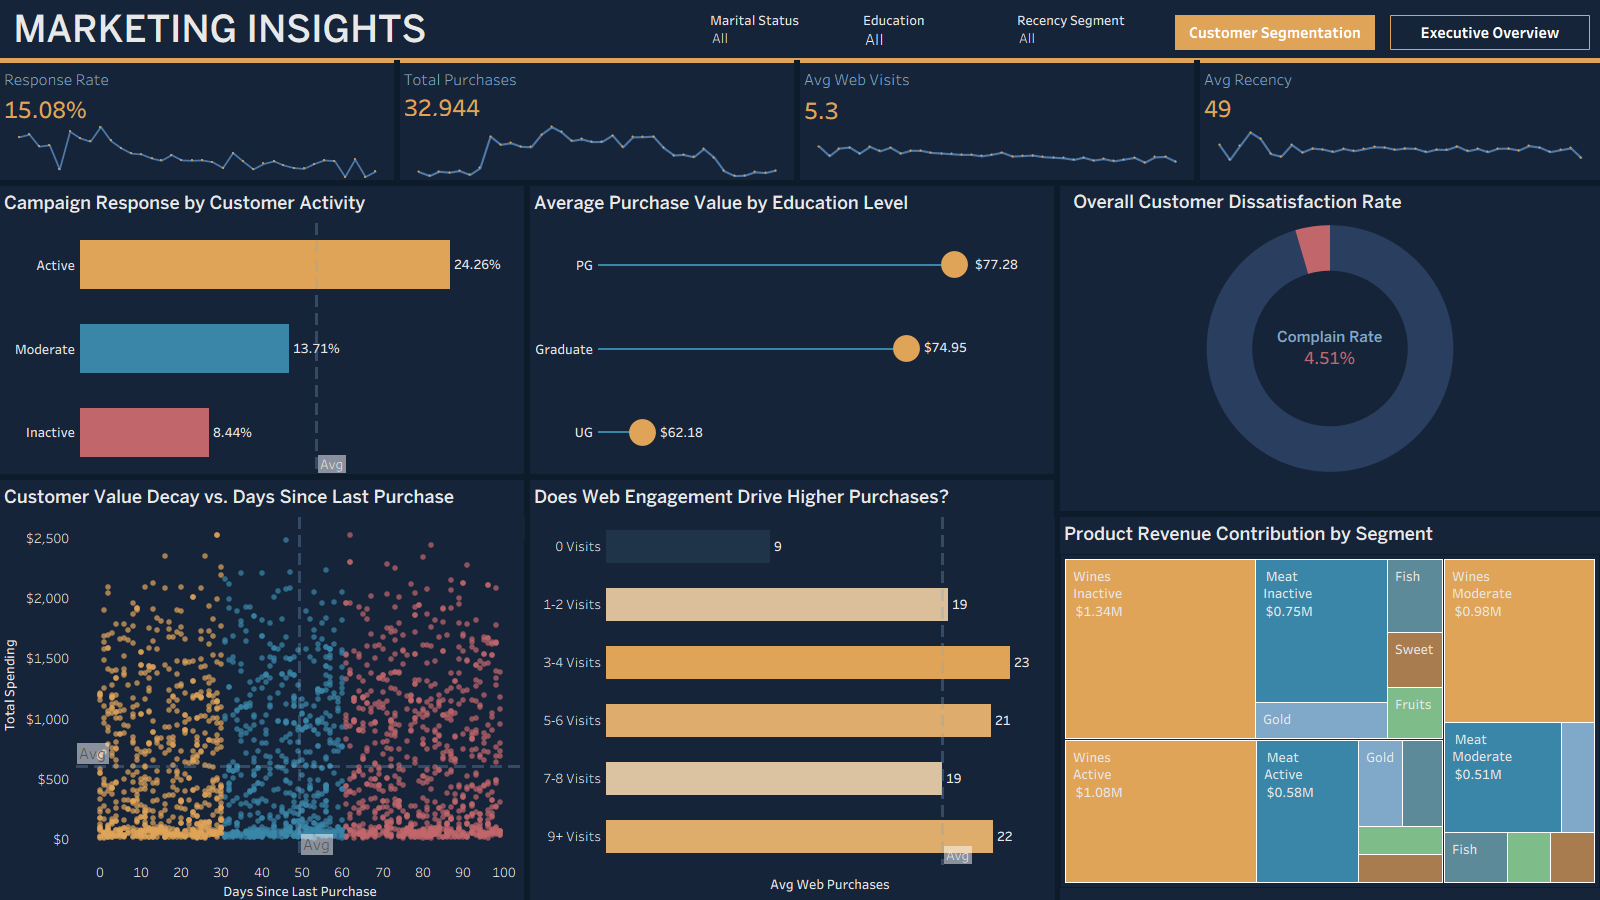

The page's visual inventory and layout, read from the dashboard file:
{"tool":"tableau","page":{"name":"Dashboard 3","canvas":[1600,900],"ordinal":2},"visuals":[{"type":"blank","box":[0,0,1600,60]},{"type":"text","box":[10,10,600,40]},{"type":"filter","title":"Avg Purchases by Education","param":"[federated.1vi3xsm1xu7bal18wals21w07avw].[none:Marital_Status:nk]","box":[710,10,145,40]},{"type":"filter","title":"Avg Purchases by Education","param":"[federated.1vi3xsm1xu7bal18wals21w07avw].[none:Education:nk]","box":[863,10,145,40]},{"type":"filter","title":"Avg Purchases by Education","param":"[federated.1vi3xsm1xu7bal18wals21w07avw].[none:Recency_Segment:nk]","box":[1017,10,145,40]},{"type":"dashboard-object","box":[1175,15,200,35]},{"type":"dashboard-object","box":[1390,15,200,35]},{"type":"blank","box":[0,58,1600,2]},{"type":"blank","box":[0,60,394,120]},{"type":"blank","box":[0,60,394,3]},{"type":"blank","box":[394,60,6,120]},{"type":"blank","box":[400,60,394,120]},{"type":"blank","box":[400,60,394,3]},{"type":"blank","box":[794,60,6,120]},{"type":"blank","box":[800,60,394,120]},{"type":"blank","box":[800,60,394,3]},{"type":"blank","box":[1194,60,6,120]},{"type":"blank","box":[1200,60,400,120]},{"type":"blank","box":[1200,60,400,3]},{"type":"worksheet","title":"Response Rate","mark":"Automatic","box":[0,63,394,60]},{"type":"worksheet","title":"Total Purchases","mark":"Automatic","box":[400,63,394,60]},{"type":"worksheet","title":"Avg Web Visits","mark":"Automatic","box":[800,63,394,60]},{"type":"worksheet","title":"Avg Recency","mark":"Automatic","box":[1200,63,400,60]},{"type":"worksheet","title":"Response Rate Sparkline ","mark":"Automatic","rows":["Calculation_1525316290375681","Calculation_1525316290375681"],"cols":["Dt_Customer"],"box":[0,123,394,57]},{"type":"worksheet","title":"Total Purchases Sparkline","mark":"Automatic","rows":["Calculation_0804862721384448","Calculation_0804862721384448"],"cols":["Dt_Customer"],"box":[400,123,394,57]},{"type":"worksheet","title":"Avg Web Visits Sparkline","mark":"Automatic","rows":["Calculation_0804862721601537","Calculation_0804862721601537"],"cols":["Dt_Customer"],"box":[800,123,394,57]},{"type":"worksheet","title":"Avg Recency Sparkline","mark":"Automatic","rows":["Calculation_0804862722220034","Calculation_0804862722220034"],"cols":["Dt_Customer"],"box":[1200,123,400,57]},{"type":"blank","box":[0,180,1600,6]},{"type":"worksheet","title":"Response by Segment","mark":"Bar","rows":["Recency_Segment"],"cols":["Calculation_0804862790864899"],"box":[0,186,524,288]},{"type":"blank","box":[524,186,6,288]},{"type":"worksheet","title":"Avg Purchases by Education","mark":"Bar","rows":["Education"],"cols":["Calculation_0804862795104260","Calculation_0804862795104260"],"box":[530,186,524,288]},{"type":"blank","box":[1054,186,6,714]},{"type":"worksheet","title":"Complain Rate Donut","mark":"Pie","rows":["Calculation_1911521606885377","Calculation_1911521606922243"],"box":[1060,186,540,325]},{"type":"text","box":[1070,190,350,25]},{"type":"blank","box":[0,474,1054,6]},{"type":"worksheet","title":"Recency vs Spending Scatter","mark":"Circle","rows":["Total_Spending"],"cols":["Recency"],"box":[0,480,524,420]},{"type":"worksheet","title":"Web Visits vs Purchases","mark":"Automatic","rows":["Calculation_1911521639010308"],"cols":["Calculation_1911521640087557"],"box":[530,480,524,420]},{"type":"blank","box":[1060,511,540,6]},{"type":"worksheet","title":"Spending Treemap","mark":"Square","box":[1060,517,540,383]}]}

Visuals, with their boxes in screenshot pixels (x1, y1, x2, y2), scaled from the page's 1600x900 canvas onto the 1600x900 screenshot:
blank: (left=0, top=0, right=1599, bottom=60)
text: (left=10, top=10, right=610, bottom=50)
"Avg Purchases by Education" filter: (left=710, top=10, right=855, bottom=50)
"Avg Purchases by Education" filter: (left=863, top=10, right=1008, bottom=50)
"Avg Purchases by Education" filter: (left=1017, top=10, right=1162, bottom=50)
dashboard-object: (left=1175, top=15, right=1375, bottom=50)
dashboard-object: (left=1390, top=15, right=1590, bottom=50)
blank: (left=0, top=58, right=1599, bottom=60)
blank: (left=0, top=60, right=394, bottom=180)
blank: (left=0, top=60, right=394, bottom=63)
blank: (left=394, top=60, right=400, bottom=180)
blank: (left=400, top=60, right=794, bottom=180)
blank: (left=400, top=60, right=794, bottom=63)
blank: (left=794, top=60, right=800, bottom=180)
blank: (left=800, top=60, right=1194, bottom=180)
blank: (left=800, top=60, right=1194, bottom=63)
blank: (left=1194, top=60, right=1200, bottom=180)
blank: (left=1200, top=60, right=1599, bottom=180)
blank: (left=1200, top=60, right=1599, bottom=63)
"Response Rate" worksheet: (left=0, top=63, right=394, bottom=123)
"Total Purchases" worksheet: (left=400, top=63, right=794, bottom=123)
"Avg Web Visits" worksheet: (left=800, top=63, right=1194, bottom=123)
"Avg Recency" worksheet: (left=1200, top=63, right=1599, bottom=123)
"Response Rate Sparkline " worksheet: (left=0, top=123, right=394, bottom=180)
"Total Purchases Sparkline" worksheet: (left=400, top=123, right=794, bottom=180)
"Avg Web Visits Sparkline" worksheet: (left=800, top=123, right=1194, bottom=180)
"Avg Recency Sparkline" worksheet: (left=1200, top=123, right=1599, bottom=180)
blank: (left=0, top=180, right=1599, bottom=186)
"Response by Segment" worksheet (Bar marks): (left=0, top=186, right=524, bottom=474)
blank: (left=524, top=186, right=530, bottom=474)
"Avg Purchases by Education" worksheet (Bar marks): (left=530, top=186, right=1054, bottom=474)
blank: (left=1054, top=186, right=1060, bottom=899)
"Complain Rate Donut" worksheet (Pie marks): (left=1060, top=186, right=1599, bottom=511)
text: (left=1070, top=190, right=1420, bottom=215)
blank: (left=0, top=474, right=1054, bottom=480)
"Recency vs Spending Scatter" worksheet (Circle marks): (left=0, top=480, right=524, bottom=899)
"Web Visits vs Purchases" worksheet: (left=530, top=480, right=1054, bottom=899)
blank: (left=1060, top=511, right=1599, bottom=517)
"Spending Treemap" worksheet (Square marks): (left=1060, top=517, right=1599, bottom=899)
